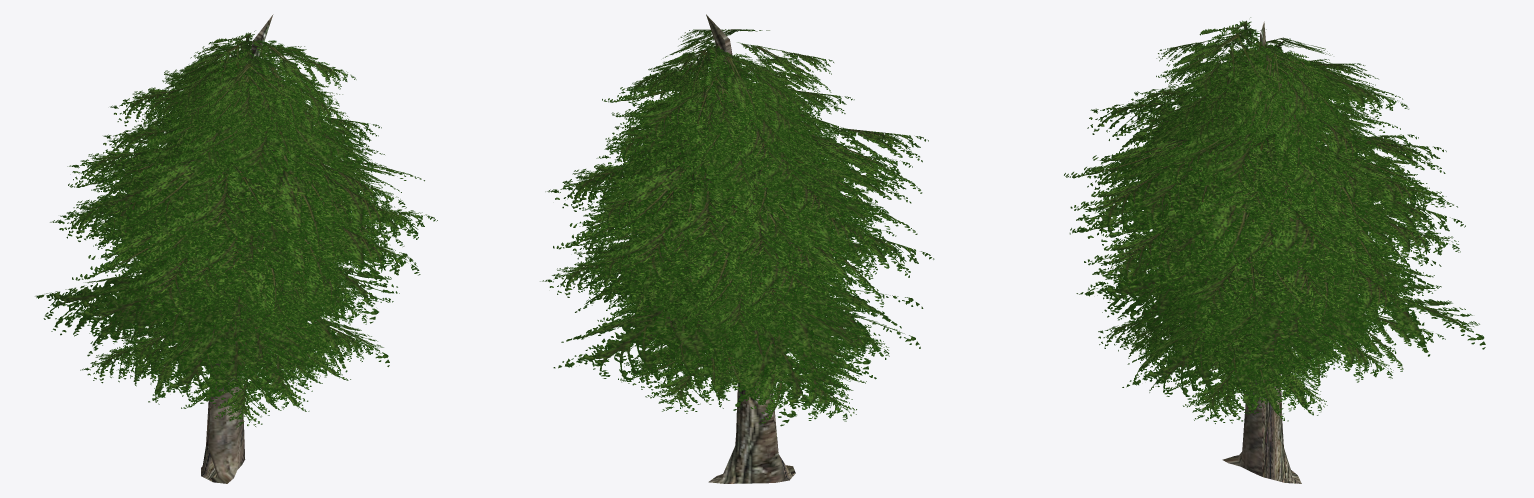
File: pine.glb
3 views of the same model, side by side, from view 1: azimuth 30°, elevation 25°; view 2: azimuth 150°, elevation 25°; view 3: azimuth 270°, elevation 25° (orthographic). The views are drawn at different scales.
Parts seen in each view (by area): view 1: Conifer tree; view 2: Conifer tree; view 3: Conifer tree.
Boxes of the visible parts, left/top/right/bottom form: Conifer tree: left=35, top=14, right=437, bottom=483; Conifer tree: left=540, top=14, right=934, bottom=483; Conifer tree: left=1064, top=17, right=1485, bottom=483.
Bounding box in the file's own units: 9.52 × 10 × 9.8.
Materials: 1 (1 with a texture image).
